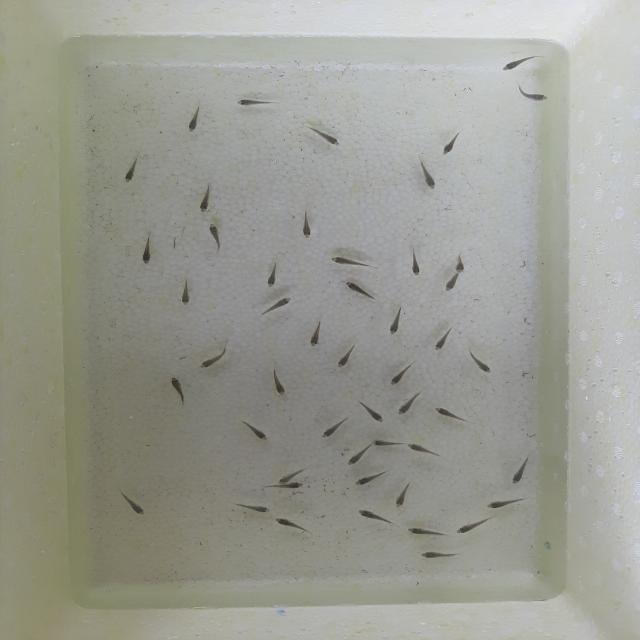fingerling: (412, 155, 438, 193), (260, 370, 296, 397), (494, 52, 533, 74), (438, 126, 464, 159), (260, 292, 299, 314), (136, 228, 156, 269), (193, 350, 232, 370), (120, 492, 151, 517), (120, 156, 143, 188), (270, 513, 306, 533), (513, 86, 552, 103), (344, 280, 377, 300), (173, 280, 198, 306), (394, 392, 419, 418), (430, 328, 457, 352), (335, 343, 359, 370), (310, 128, 344, 147), (319, 419, 349, 440), (165, 375, 190, 400), (468, 353, 495, 376), (327, 253, 370, 267), (386, 307, 406, 337), (405, 253, 428, 279), (406, 441, 441, 458), (355, 507, 390, 524), (237, 501, 276, 516), (508, 460, 530, 486), (298, 213, 317, 243), (247, 421, 272, 443), (350, 472, 382, 489), (343, 446, 373, 464), (199, 184, 215, 217), (432, 403, 465, 419), (387, 363, 408, 388), (451, 520, 486, 535), (406, 525, 442, 539), (361, 405, 386, 425), (207, 221, 225, 248), (478, 499, 526, 509), (417, 550, 457, 562), (450, 251, 470, 274), (392, 488, 412, 510), (234, 98, 272, 109), (308, 321, 322, 349), (276, 469, 304, 483), (189, 104, 199, 134), (268, 482, 309, 489), (441, 276, 460, 291), (371, 438, 402, 446), (268, 262, 276, 290)
